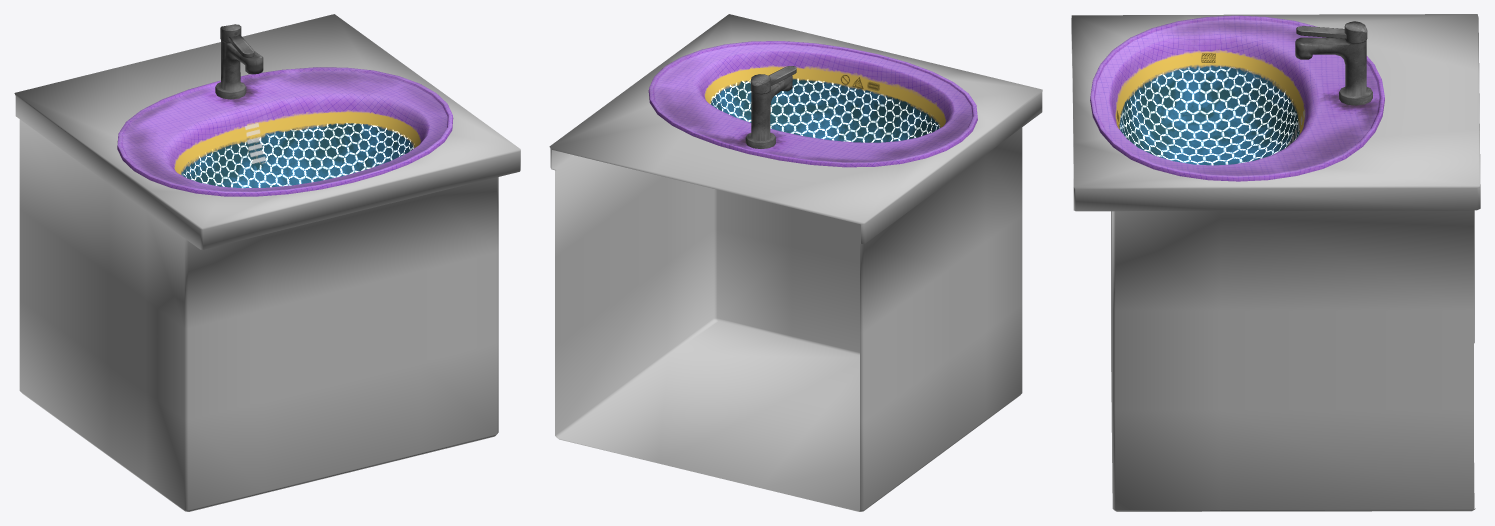
The model's file is SinkNew.fbx.
The picture shows the model from 3 angles, left to right: view 1: azimuth 30°, elevation 25°; view 2: azimuth 150°, elevation 25°; view 3: azimuth 270°, elevation 25°; orthographic projection. The views are drawn at different scales.
Visible parts, largest first — view 1: Sink_Geo.001_dmg.001; view 2: Sink_Geo.001_dmg.001; view 3: Sink_Geo.001_dmg.001.
Part boxes in pixels (x1=…): Sink_Geo.001_dmg.001: x1=14, y1=14, x2=520, y2=511; Sink_Geo.001_dmg.001: x1=549, y1=14, x2=1042, y2=511; Sink_Geo.001_dmg.001: x1=1071, y1=14, x2=1480, y2=511.
Bounding box in the file's own units: 2.49 × 2.5 × 2.71.
